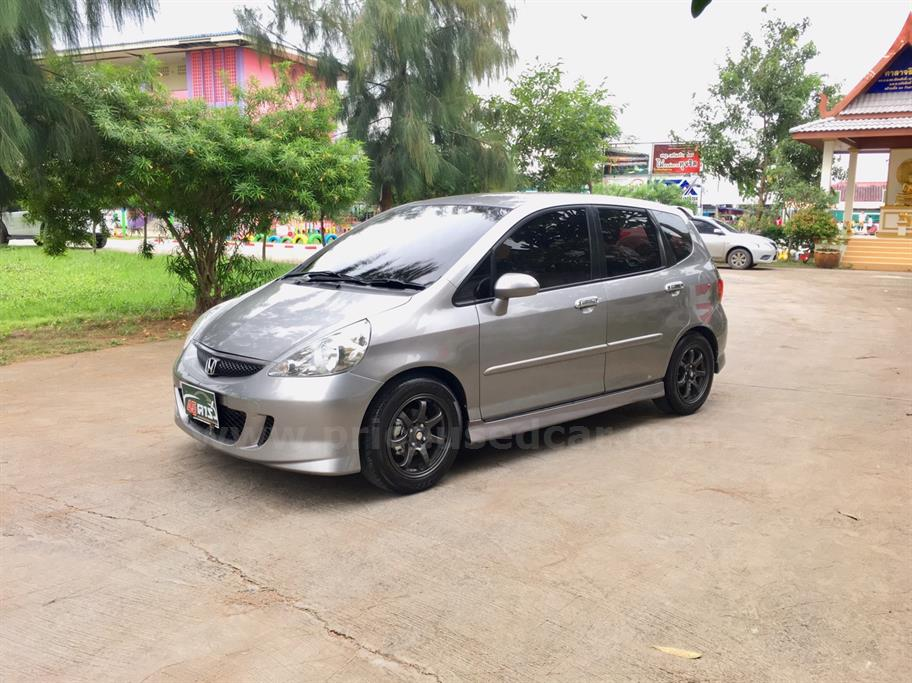sedan: (166, 189, 730, 497)
